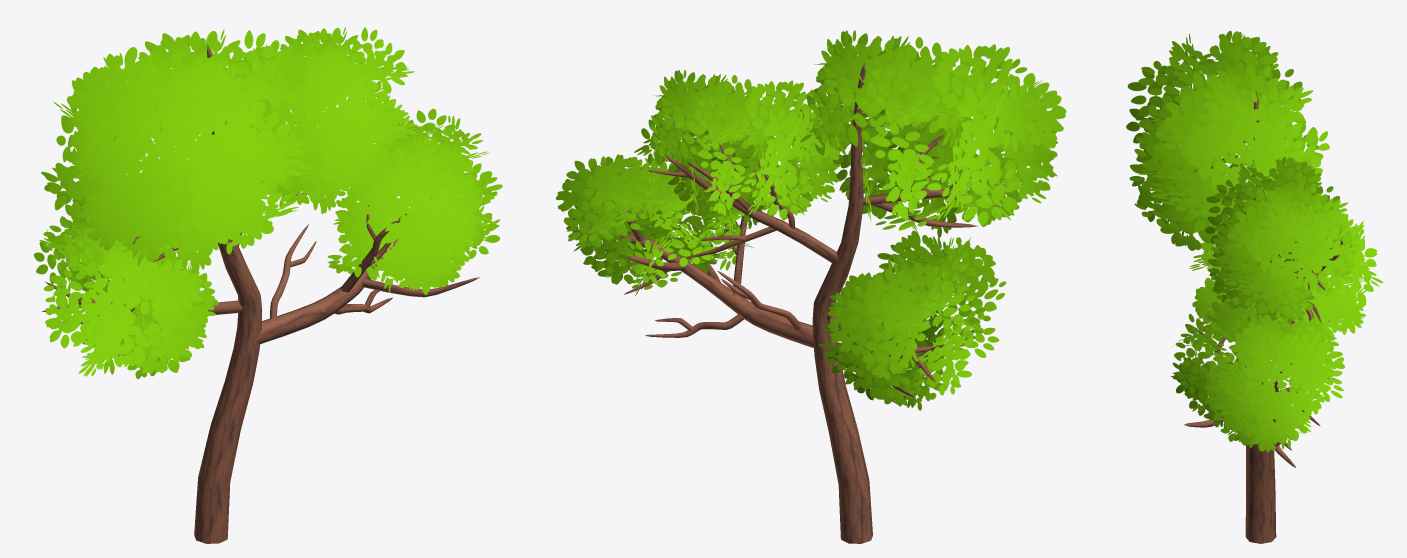
The model's file is acacia_negra.glb.
3 renders of one model, left to right at view 1: azimuth 30°, elevation 25°; view 2: azimuth 150°, elevation 25°; view 3: azimuth 270°, elevation 25°, orthographic. The views are drawn at different scales.
Visible parts, largest first — view 1: acacia_negra; view 2: acacia_negra; view 3: acacia_negra.
Boxes of the visible parts, x1,y1,x2,y2 form: acacia_negra: [33, 27, 502, 543]; acacia_negra: [556, 30, 1066, 543]; acacia_negra: [1126, 30, 1383, 543].
Bounding box in the file's own units: 12.88 × 13.5 × 7.36.
2 materials, 2 textured.
